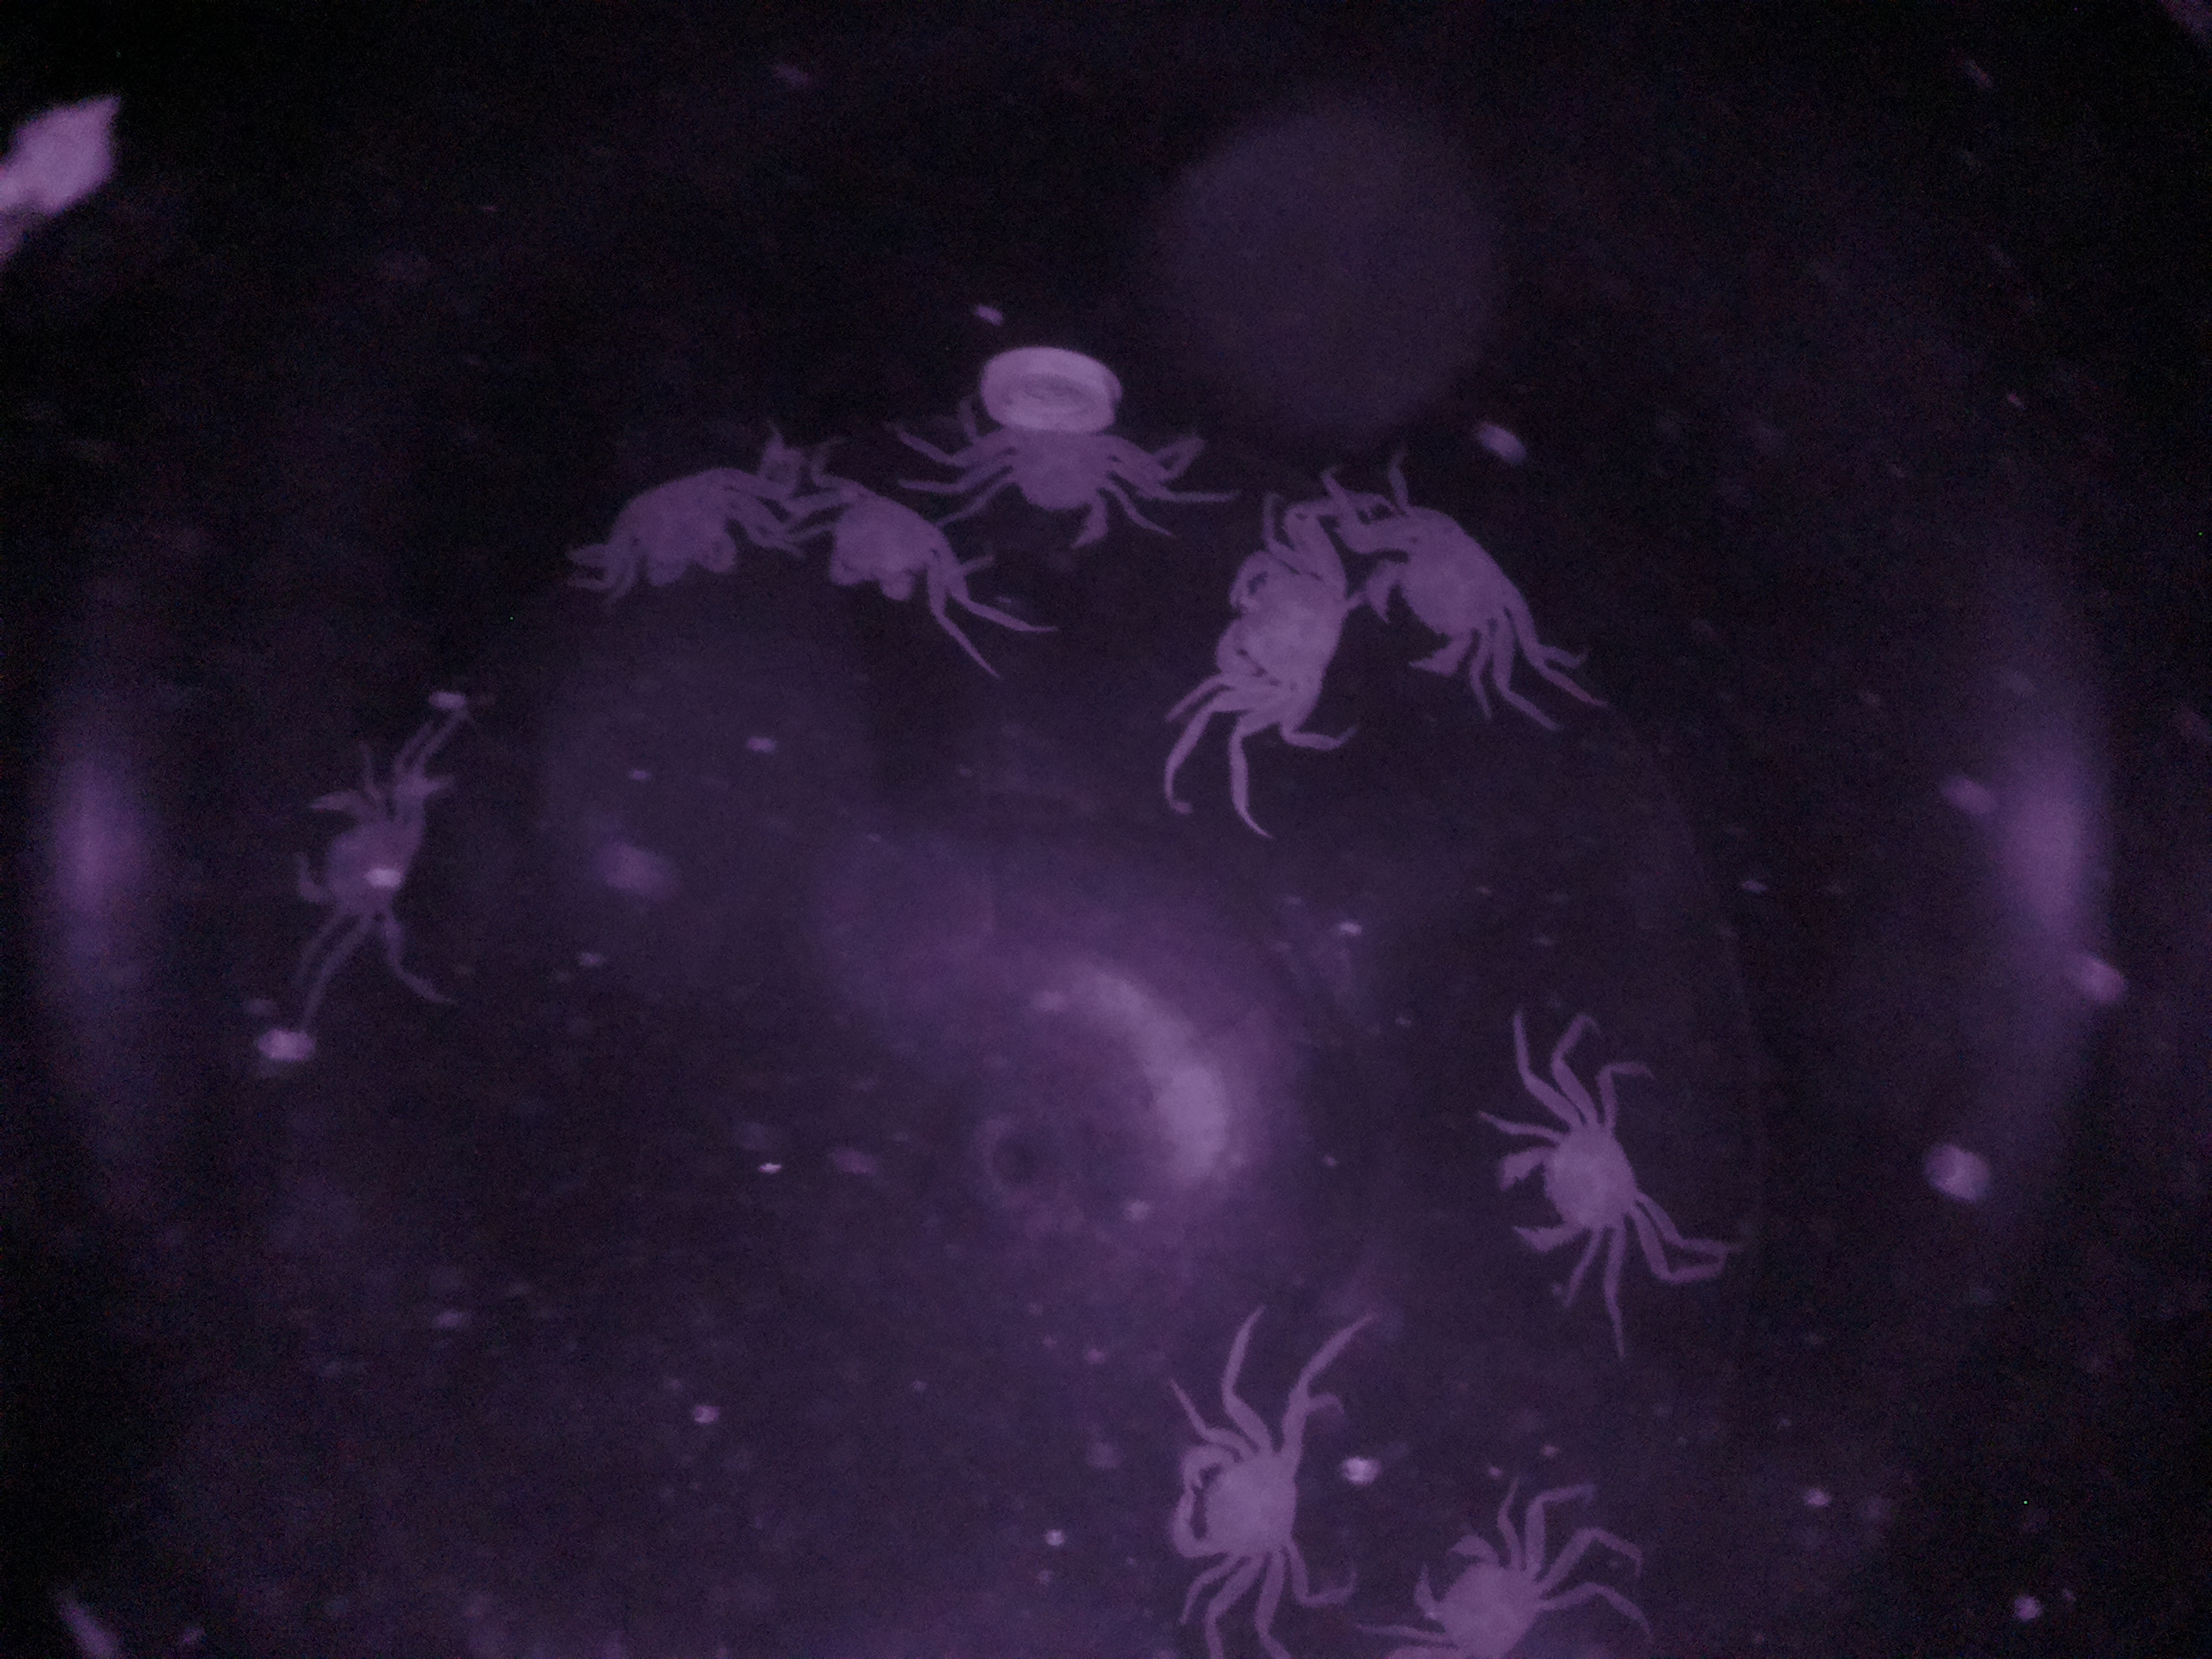Crab: (1359, 469, 1554, 711), (1487, 1070, 1686, 1279), (1191, 511, 1359, 751), (1160, 1364, 1315, 1605), (968, 392, 1148, 561), (1395, 1492, 1571, 1659)
